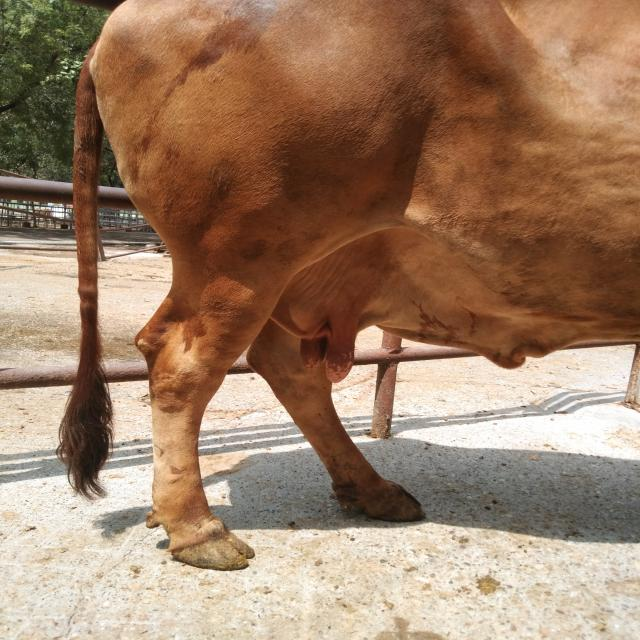Hoof: (168, 526, 255, 571), (334, 480, 426, 522)
